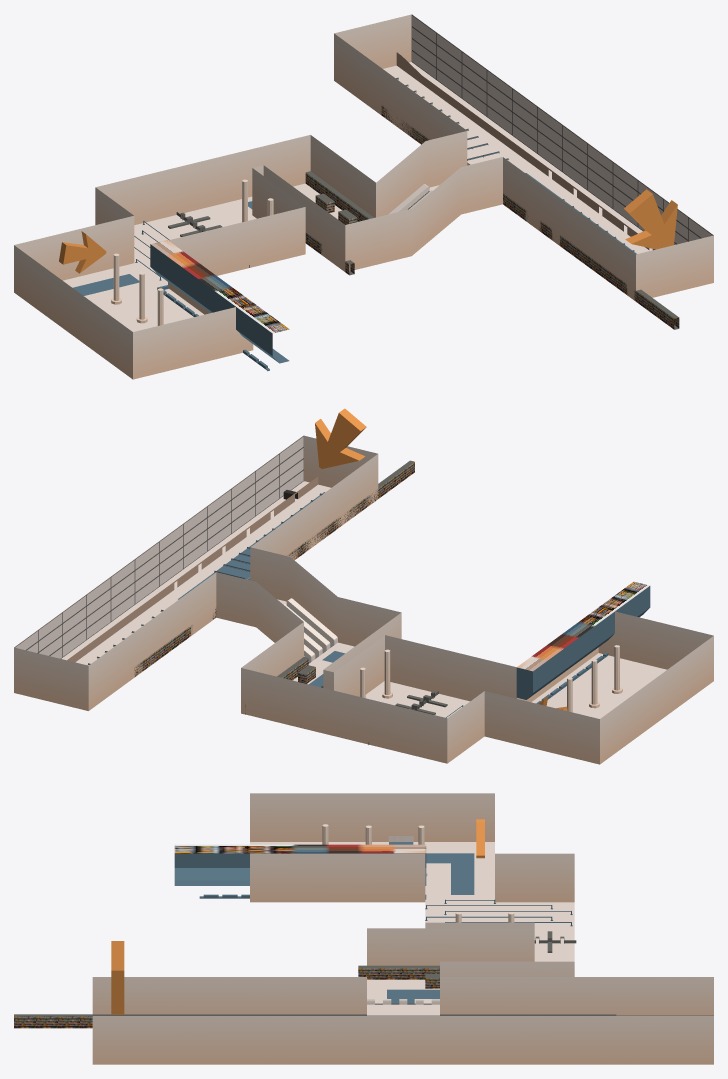
File: level.fbx
3 views of the same model, one above another, from view 1: azimuth 30°, elevation 25°; view 2: azimuth 150°, elevation 25°; view 3: azimuth 270°, elevation 25° (orthographic). The views are drawn at different scales.
Visible parts, largest first — view 1: pPlane1, pPlane3, pCube6, pPlane4, Arrow, RetailCube16, Arrow1, RetailCube14, pPlane5, RetailCube15; view 2: pPlane1, pPlane3, pCube6, pPlane4, Arrow, pCube19, RetailCube16, pPlane5, RetailCube17; view 3: pPlane1, pCube6, pPlane5, RetailCube16, RetailCube13, Arrow, pPlane3.
Boxes of the visible parts, x1,y1,x2,y2 form: pPlane1: (14, 14, 713, 379); pPlane3: (411, 15, 713, 244); pCube6: (150, 240, 289, 363); pPlane4: (396, 52, 655, 250); Arrow: (624, 189, 677, 249); RetailCube16: (588, 256, 679, 329); Arrow1: (59, 231, 106, 273); RetailCube14: (305, 171, 373, 221); pPlane5: (72, 173, 636, 295); RetailCube15: (503, 193, 588, 266); pPlane1: (14, 435, 713, 764); pPlane3: (14, 436, 303, 658); pCube6: (516, 581, 650, 699); pPlane4: (67, 476, 318, 662); Arrow: (315, 408, 366, 468); pCube19: (283, 598, 337, 661); RetailCube16: (332, 460, 414, 531); pPlane5: (178, 492, 345, 687); RetailCube17: (134, 609, 216, 676); pPlane1: (92, 793, 713, 1064); pCube6: (174, 844, 426, 885); pPlane5: (387, 842, 474, 1003); RetailCube16: (14, 1014, 190, 1028); RetailCube13: (358, 965, 439, 979); Arrow: (111, 941, 124, 1014); pPlane3: (93, 1015, 713, 1015).
Bounding box in the file's own units: 19343 × 4592 × 22595.
1 material, 1 textured.
